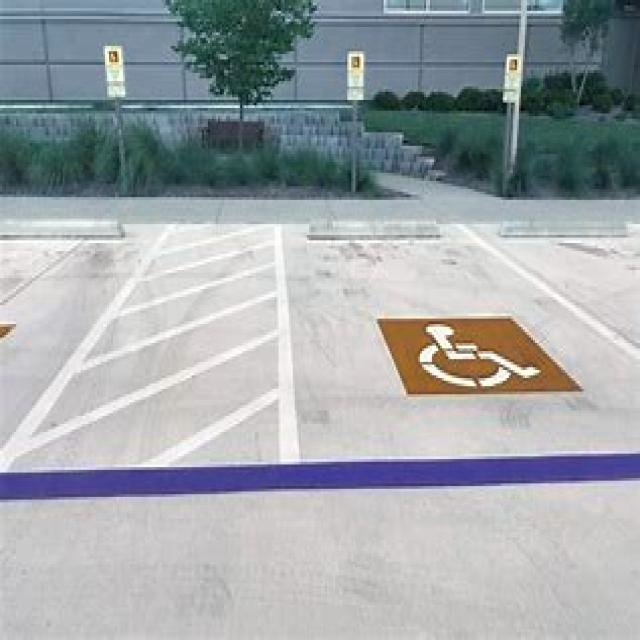ISA: (419, 318, 544, 390)
